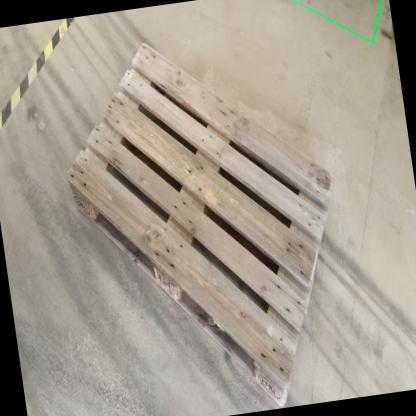BoxFace: (62, 35, 337, 407)
